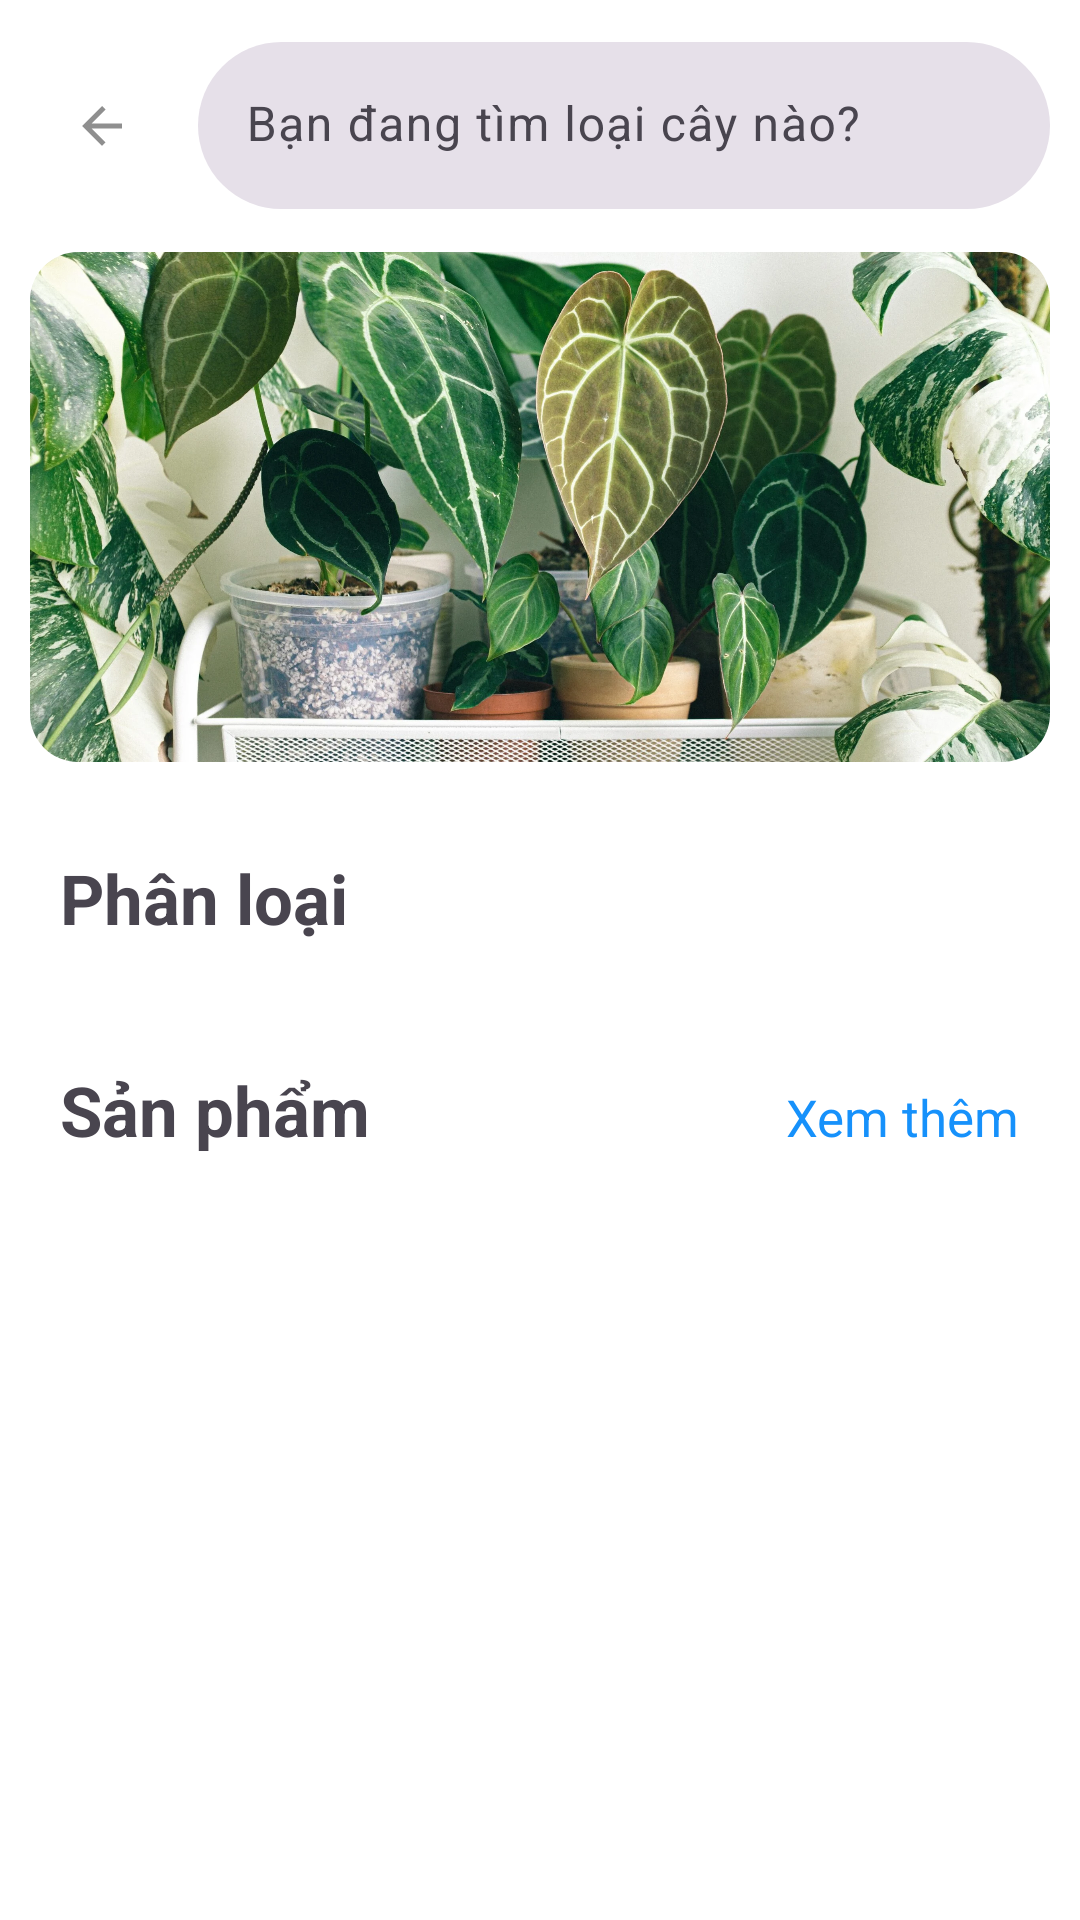

Screen size 1080x1920. Icon name, then its box in pixels as (x1, y1, x2, y2):
back arrow: (82, 106, 122, 146)
